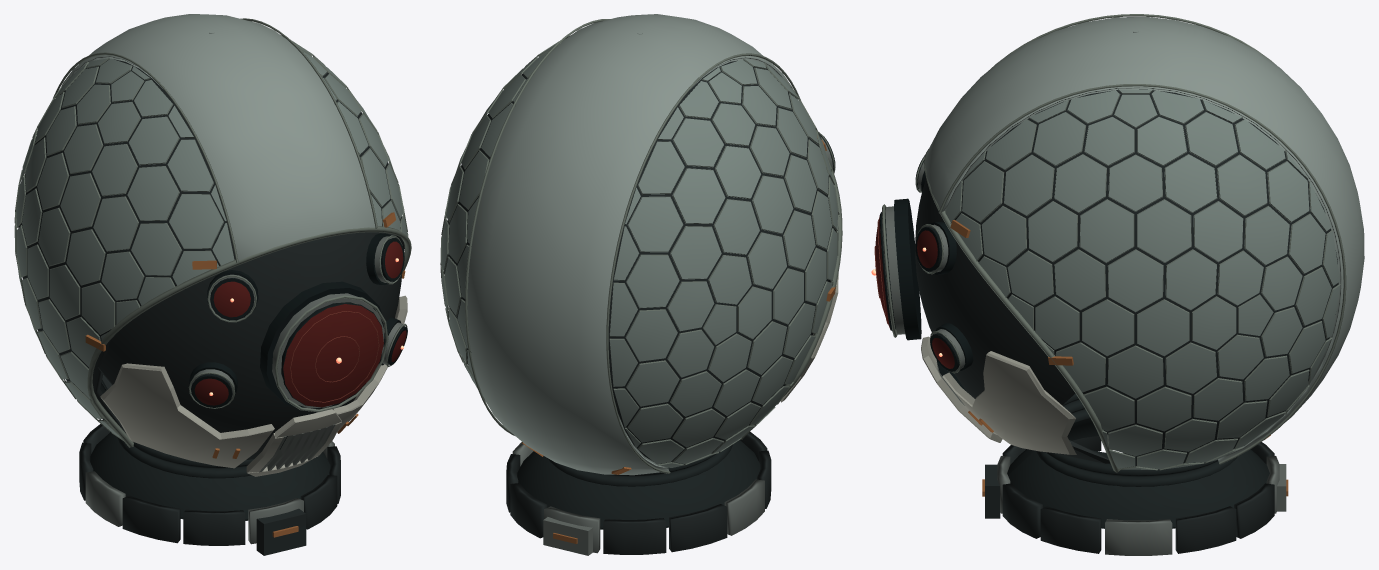
3 renders of one model, left to right at view 1: azimuth 30°, elevation 25°; view 2: azimuth 150°, elevation 25°; view 3: azimuth 270°, elevation 25°, orthographic. The views are drawn at different scales.
Parts seen in each view (by area): view 1: SURFACE_SHELL, SURFACE_CROWN_BAND, SURFACE_FACEPLATE, SURFACE_COLLAR, OPTICAL_GLASS, SURFACE_JAW, SURFACE_OPTICS, SURFACE_RESPIRATOR; view 2: SURFACE_SHELL, SURFACE_CROWN_BAND, SURFACE_COLLAR, SURFACE_JAW; view 3: SURFACE_SHELL, SURFACE_CROWN_BAND, SURFACE_COLLAR, SURFACE_FACEPLATE, SURFACE_OPTICS, SURFACE_JAW, OPTICAL_GLASS, SURFACE_RESPIRATOR.
Boxes of the visible parts, x1,y1,x2,y2 form: SURFACE_SHELL: (14, 35, 411, 447); SURFACE_CROWN_BAND: (53, 14, 377, 262); SURFACE_FACEPLATE: (97, 232, 402, 459); SURFACE_COLLAR: (79, 424, 340, 555); OPTICAL_GLASS: (194, 241, 406, 407); SURFACE_JAW: (100, 295, 407, 468); SURFACE_OPTICS: (188, 233, 407, 412); SURFACE_RESPIRATOR: (246, 409, 341, 476); SURFACE_SHELL: (440, 35, 842, 474); SURFACE_CROWN_BAND: (465, 14, 800, 475); SURFACE_COLLAR: (506, 431, 771, 555); SURFACE_JAW: (780, 274, 838, 402); SURFACE_SHELL: (924, 89, 1340, 472); SURFACE_CROWN_BAND: (925, 14, 1364, 464); SURFACE_COLLAR: (982, 394, 1288, 555); SURFACE_FACEPLATE: (915, 178, 1110, 463); SURFACE_OPTICS: (880, 154, 973, 373); SURFACE_JAW: (942, 351, 1076, 454); OPTICAL_GLASS: (874, 215, 954, 368); SURFACE_RESPIRATOR: (921, 336, 1002, 442).
Size of the model in its own units: 0.2786 by 0.379 by 0.3553.
